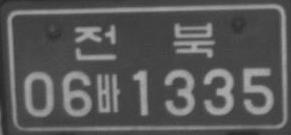0: (24, 71, 55, 118)
1: (128, 69, 158, 116)
3: (163, 68, 196, 116), (203, 68, 235, 117)
5: (241, 67, 274, 116)
6: (61, 69, 92, 118)
바: (95, 73, 121, 113)
전북_D: (73, 20, 216, 61)
